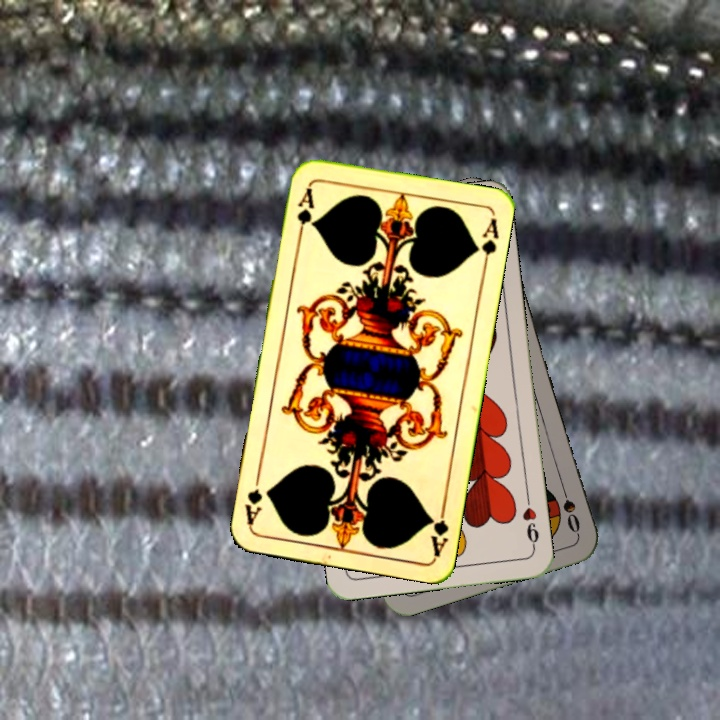GA: (425, 498, 451, 558), (293, 182, 317, 240)
H9: (518, 493, 542, 552)
SO: (556, 478, 583, 536)
